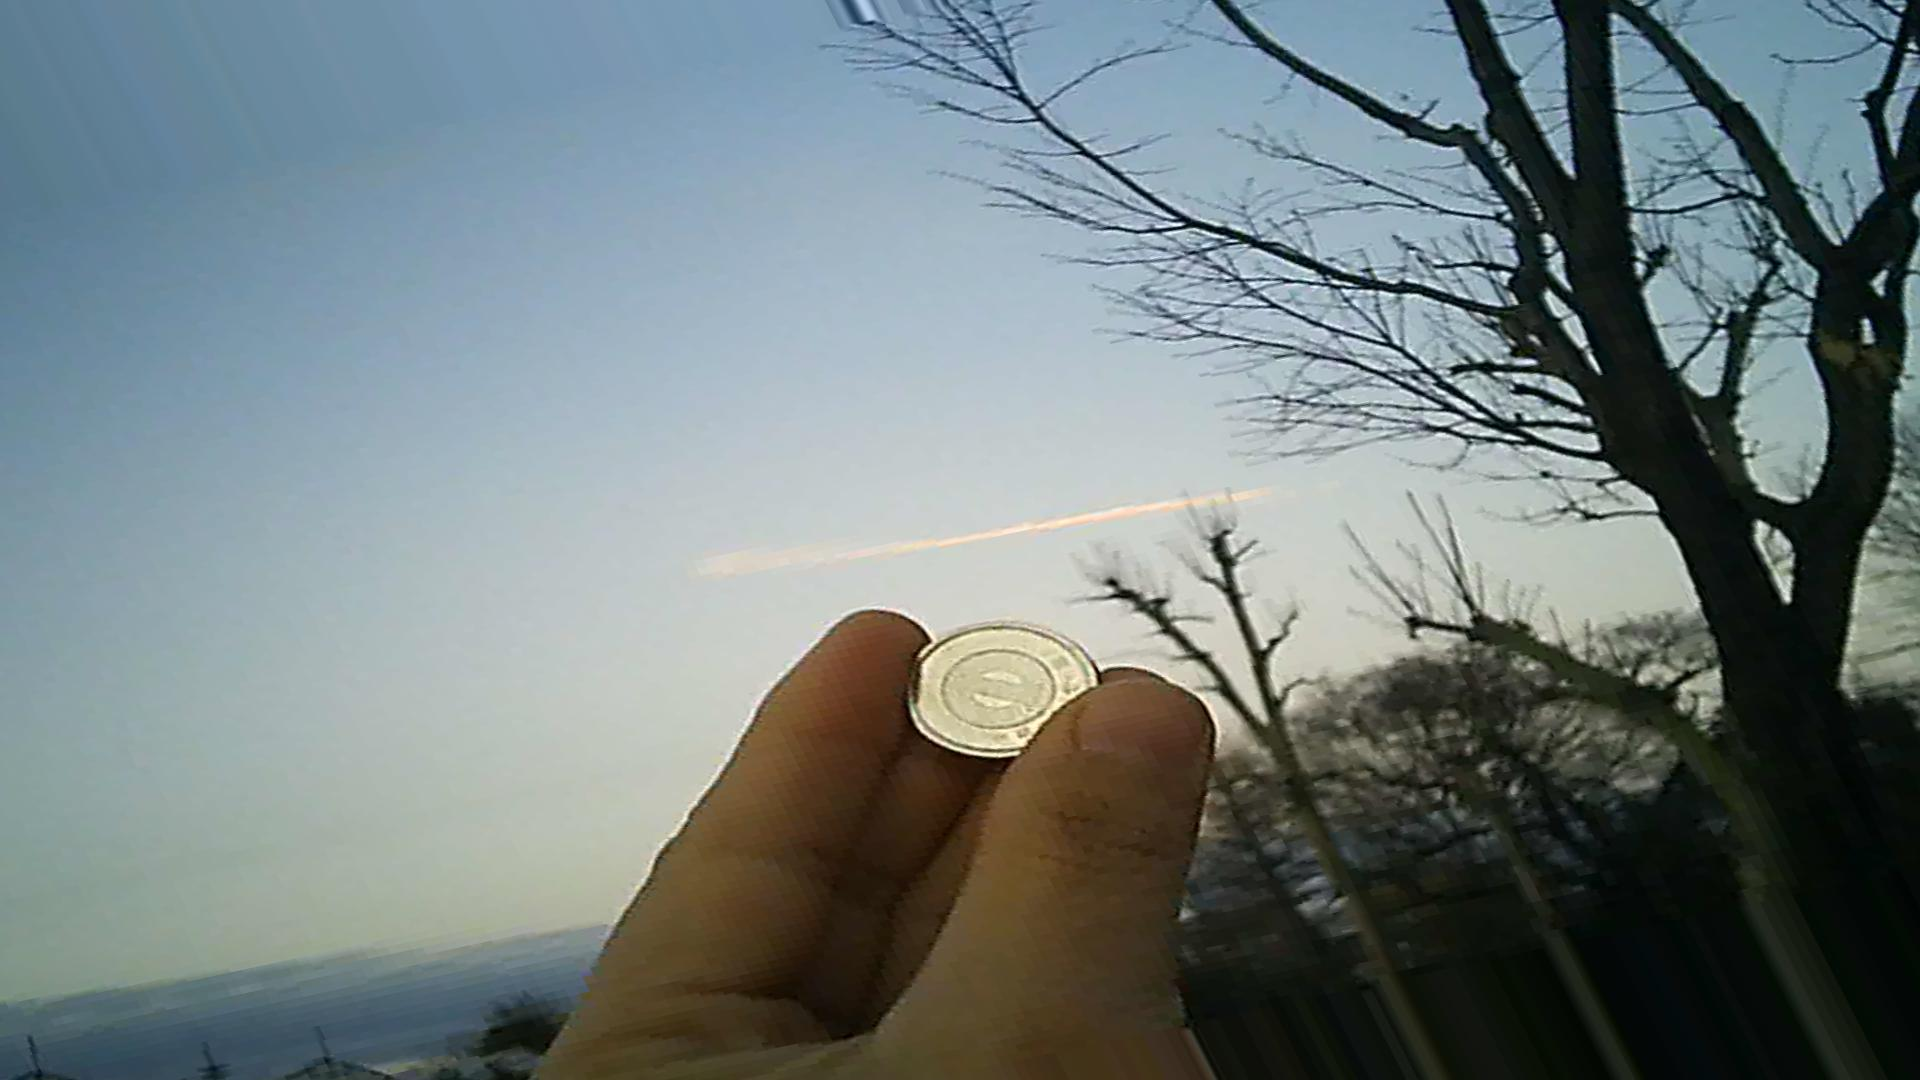1 Yen: (893, 607, 1117, 774)
